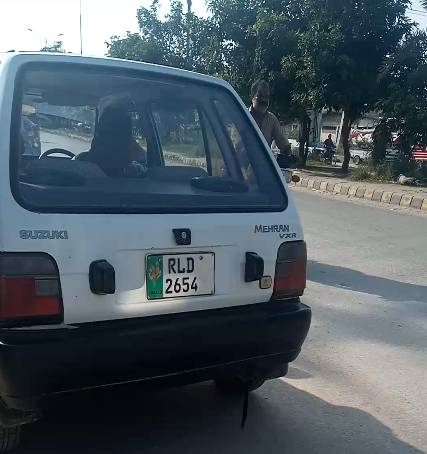number_plate: (144, 256, 219, 296)
